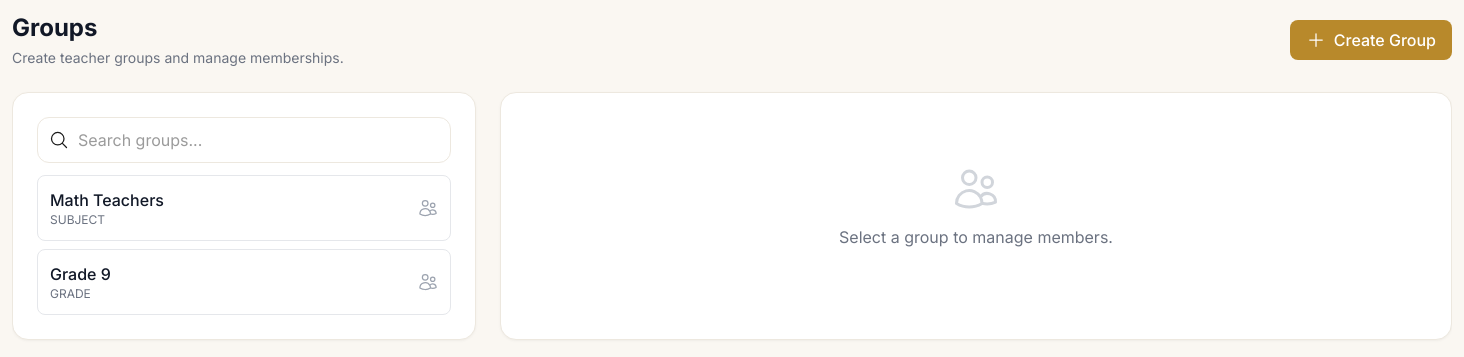
Test: GroupsPage › groups list › search input filters groups by name
Expected: the text "Math Teachers" is shown, [50,188,164,212]
In the field with placeholder "Search groups...": (244, 140) [37,117,451,163], type "grade"
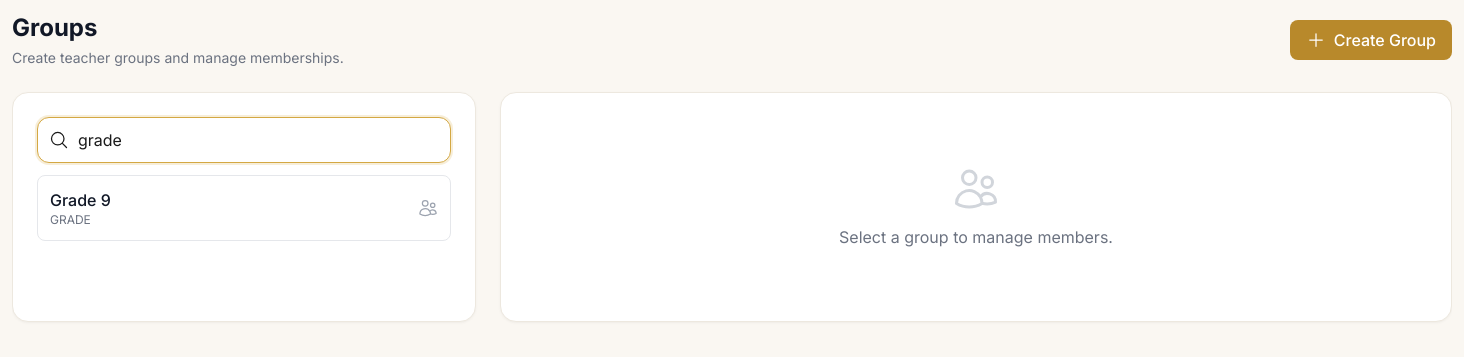
Expected: the text "Grade 9" is shown, [50,188,111,212]
Now the button "Math Teachers" is gone
